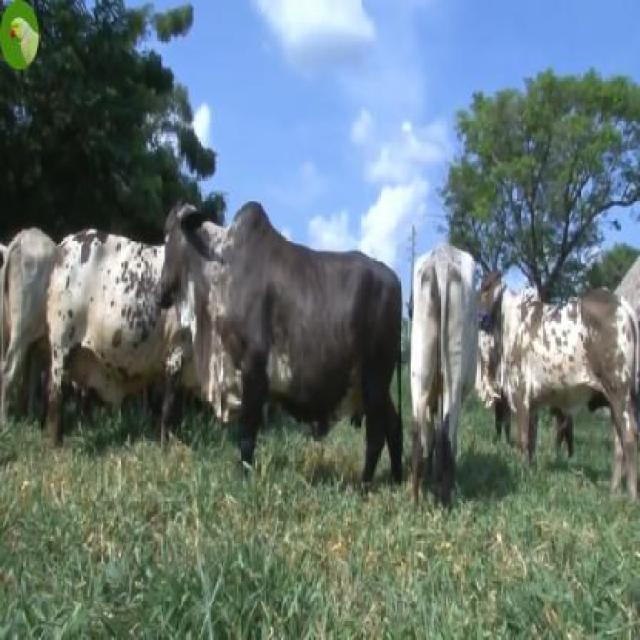Cow: (154, 202, 403, 492)
